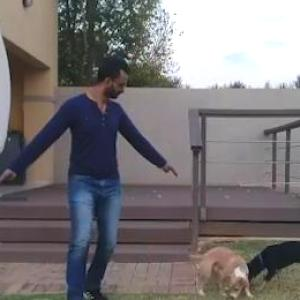land: (1, 54, 182, 299)
